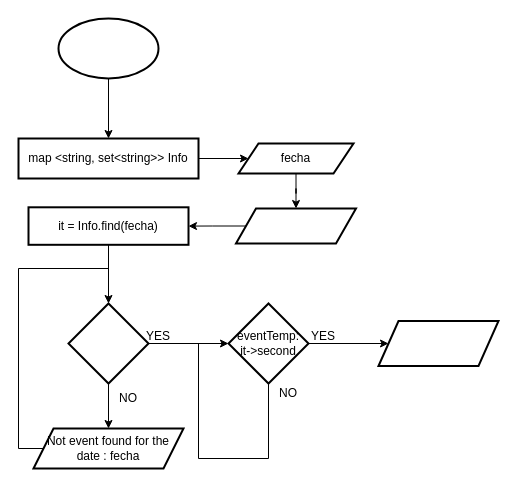
Image size: 516x486. Some labels were removed from this diagram. Here are the shapes that lost their labels. From the top down, the centre of each, then its label:
(x=295, y=225): evento
(x=108, y=343): it != Info.end
(x=438, y=343): eventTemp
